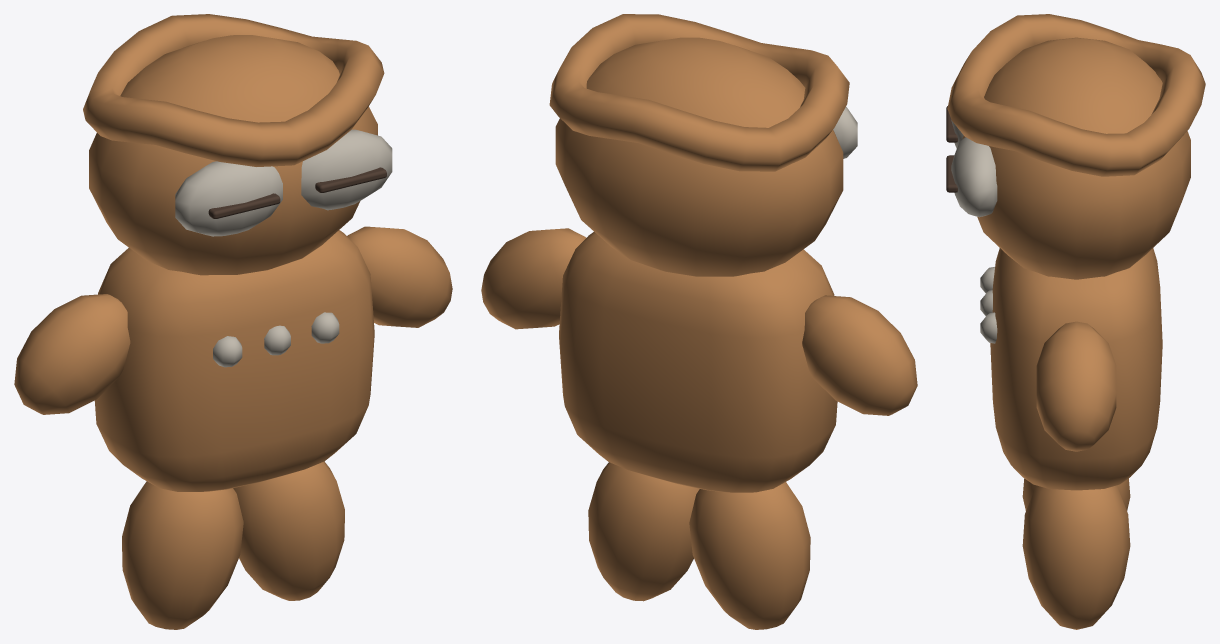
The model's file is clay_figurine.glb.
3 renders of one model, left to right at view 1: azimuth 30°, elevation 25°; view 2: azimuth 150°, elevation 25°; view 3: azimuth 270°, elevation 25°, orthographic. The views are drawn at different scales.
Visible parts, largest first — view 1: clay_figurine_mesh; view 2: clay_figurine_mesh; view 3: clay_figurine_mesh.
Boxes of the visible parts, left/top/right/bottom form: clay_figurine_mesh: left=14, top=14, right=452, bottom=629; clay_figurine_mesh: left=481, top=14, right=917, bottom=629; clay_figurine_mesh: left=946, top=14, right=1205, bottom=629.
Bounding box in the file's own units: 0.4448 × 0.558 × 0.241.
